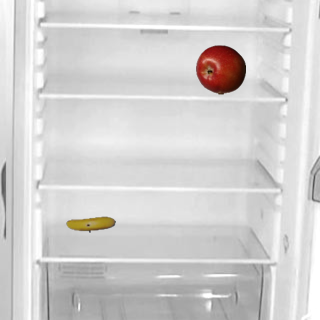Apple Braeburn: (195, 44, 245, 94)
Banana: (65, 199, 115, 249)
